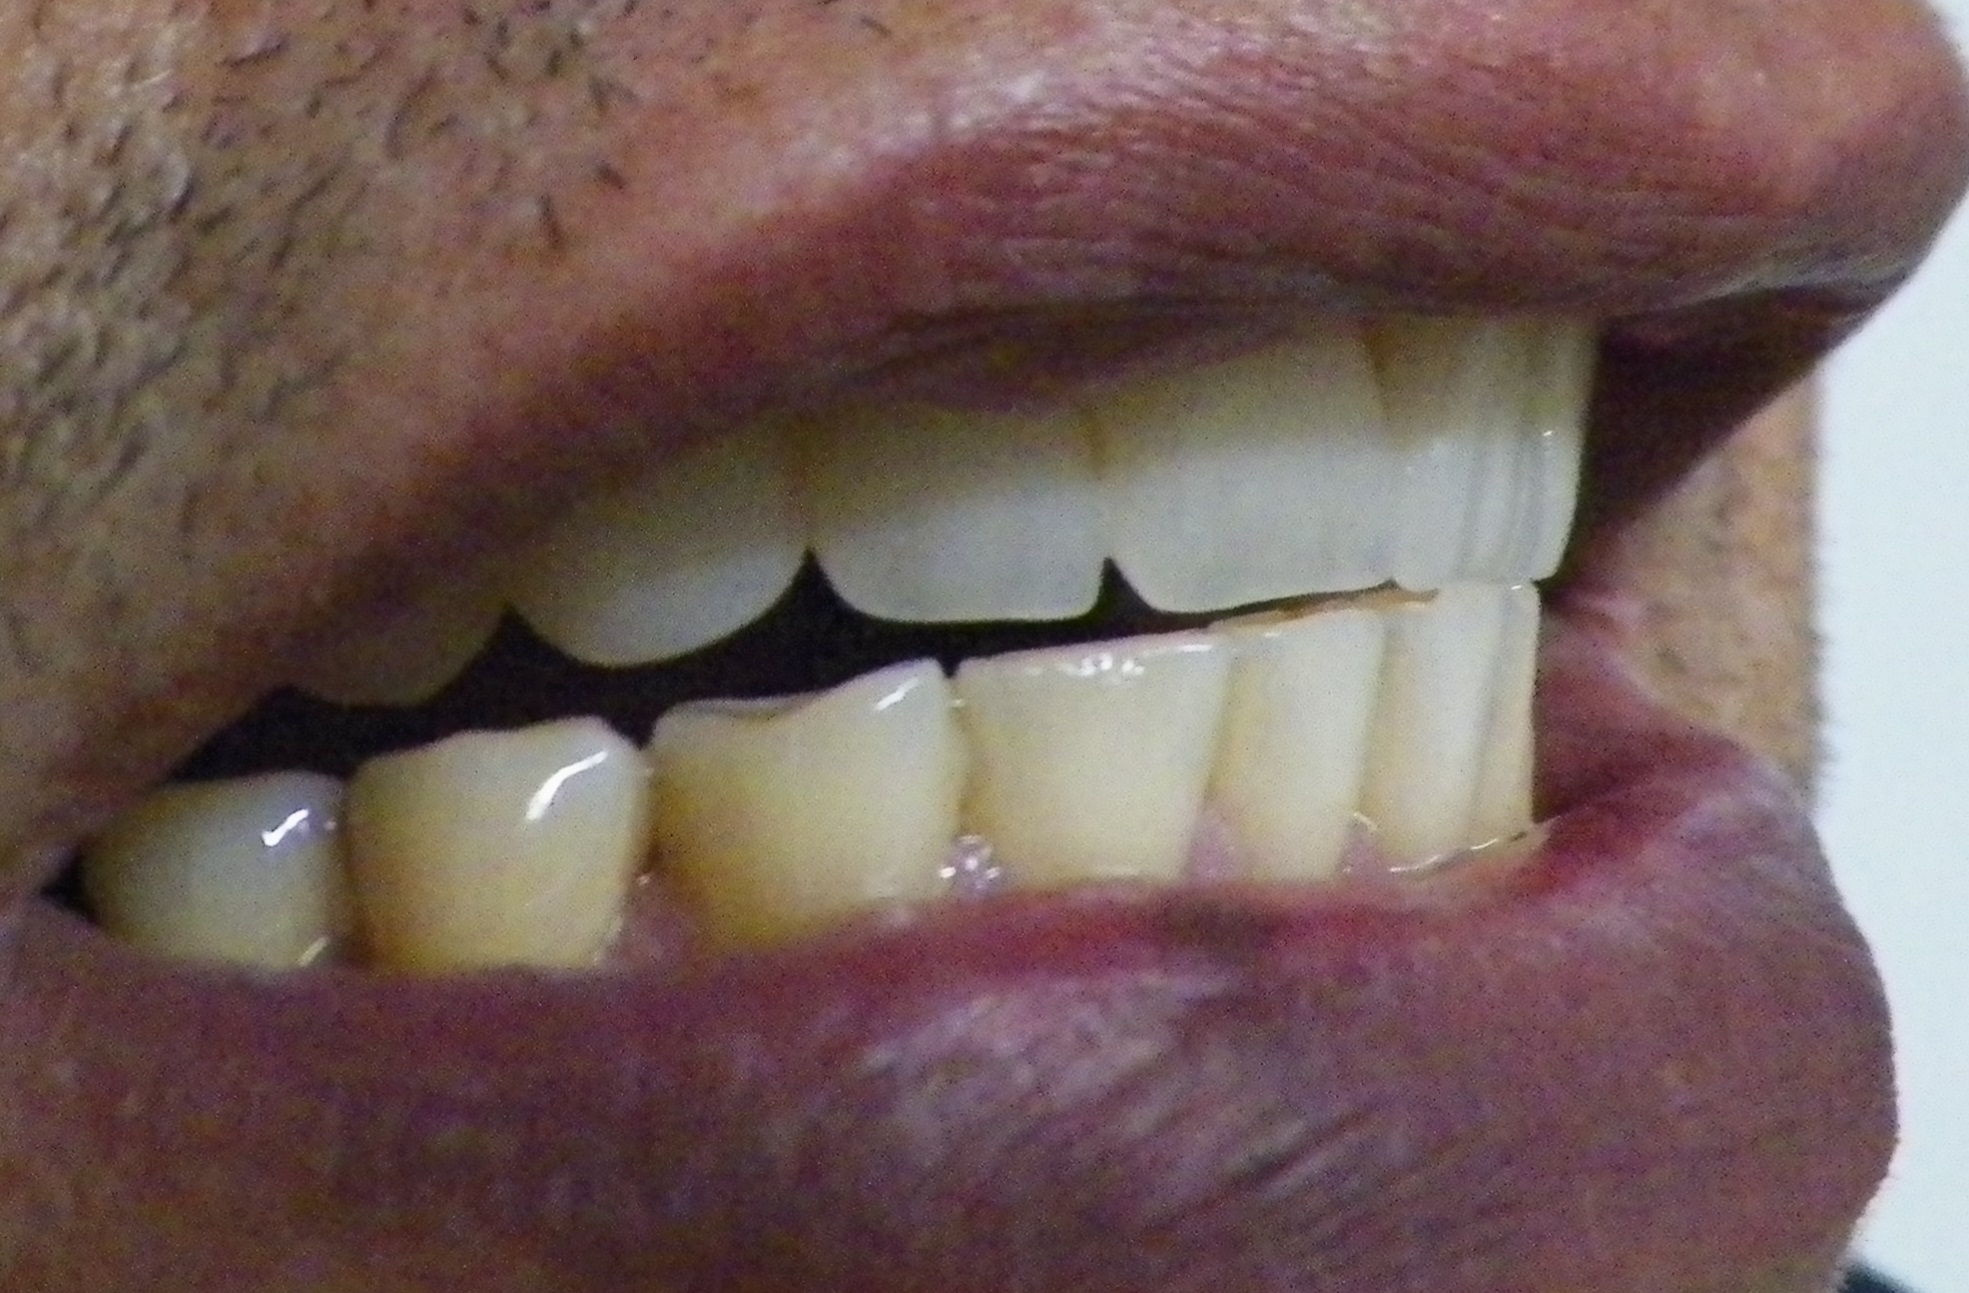boca: (87, 310, 1666, 960)
